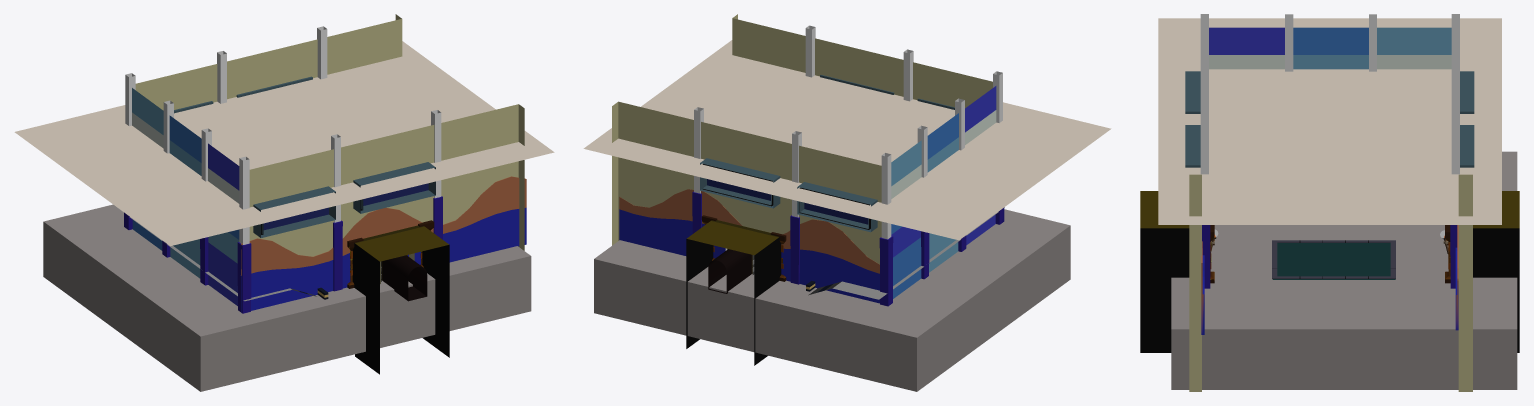
Rendered from Diving Board Room.fbx.
3 views of the same model, side by side, from view 1: azimuth 30°, elevation 25°; view 2: azimuth 150°, elevation 25°; view 3: azimuth 270°, elevation 25° (orthographic). The views are drawn at different scales.
Parts seen in each view (by area): view 1: Diving Board Room; view 2: Diving Board Room; view 3: Diving Board Room.
Part boxes in pixels (<box>): Diving Board Room: <box>14,14,554,391</box>; Diving Board Room: <box>583,14,1111,391</box>; Diving Board Room: <box>1140,14,1519,391</box>.
Size of the model in its own units: 3169 by 1861 by 2460.
